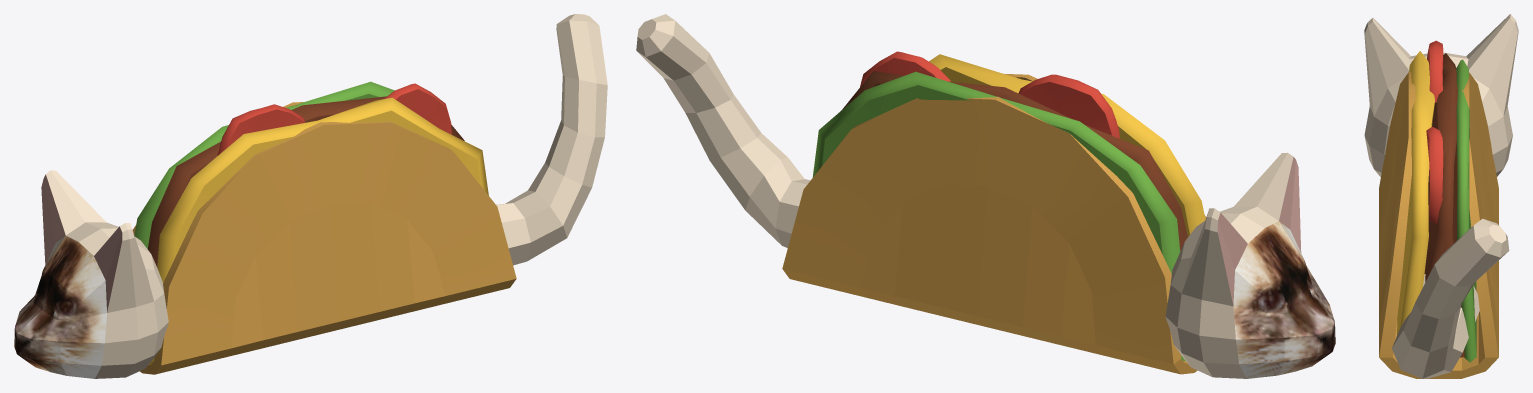
The model's file is TacoCat.fbx.
The picture shows the model from 3 angles, left to right: view 1: azimuth 30°, elevation 25°; view 2: azimuth 150°, elevation 25°; view 3: azimuth 270°, elevation 25°; orthographic projection. The views are drawn at different scales.
Parts seen in each view (by area): view 1: TacoCat; view 2: TacoCat; view 3: TacoCat.
Part boxes in pixels (x1,y1,x2,y2): TacoCat: (14, 14, 607, 378); TacoCat: (636, 14, 1335, 378); TacoCat: (1364, 14, 1518, 378).
Size of the model in its own units: 52.92 by 18.9 by 11.94.
